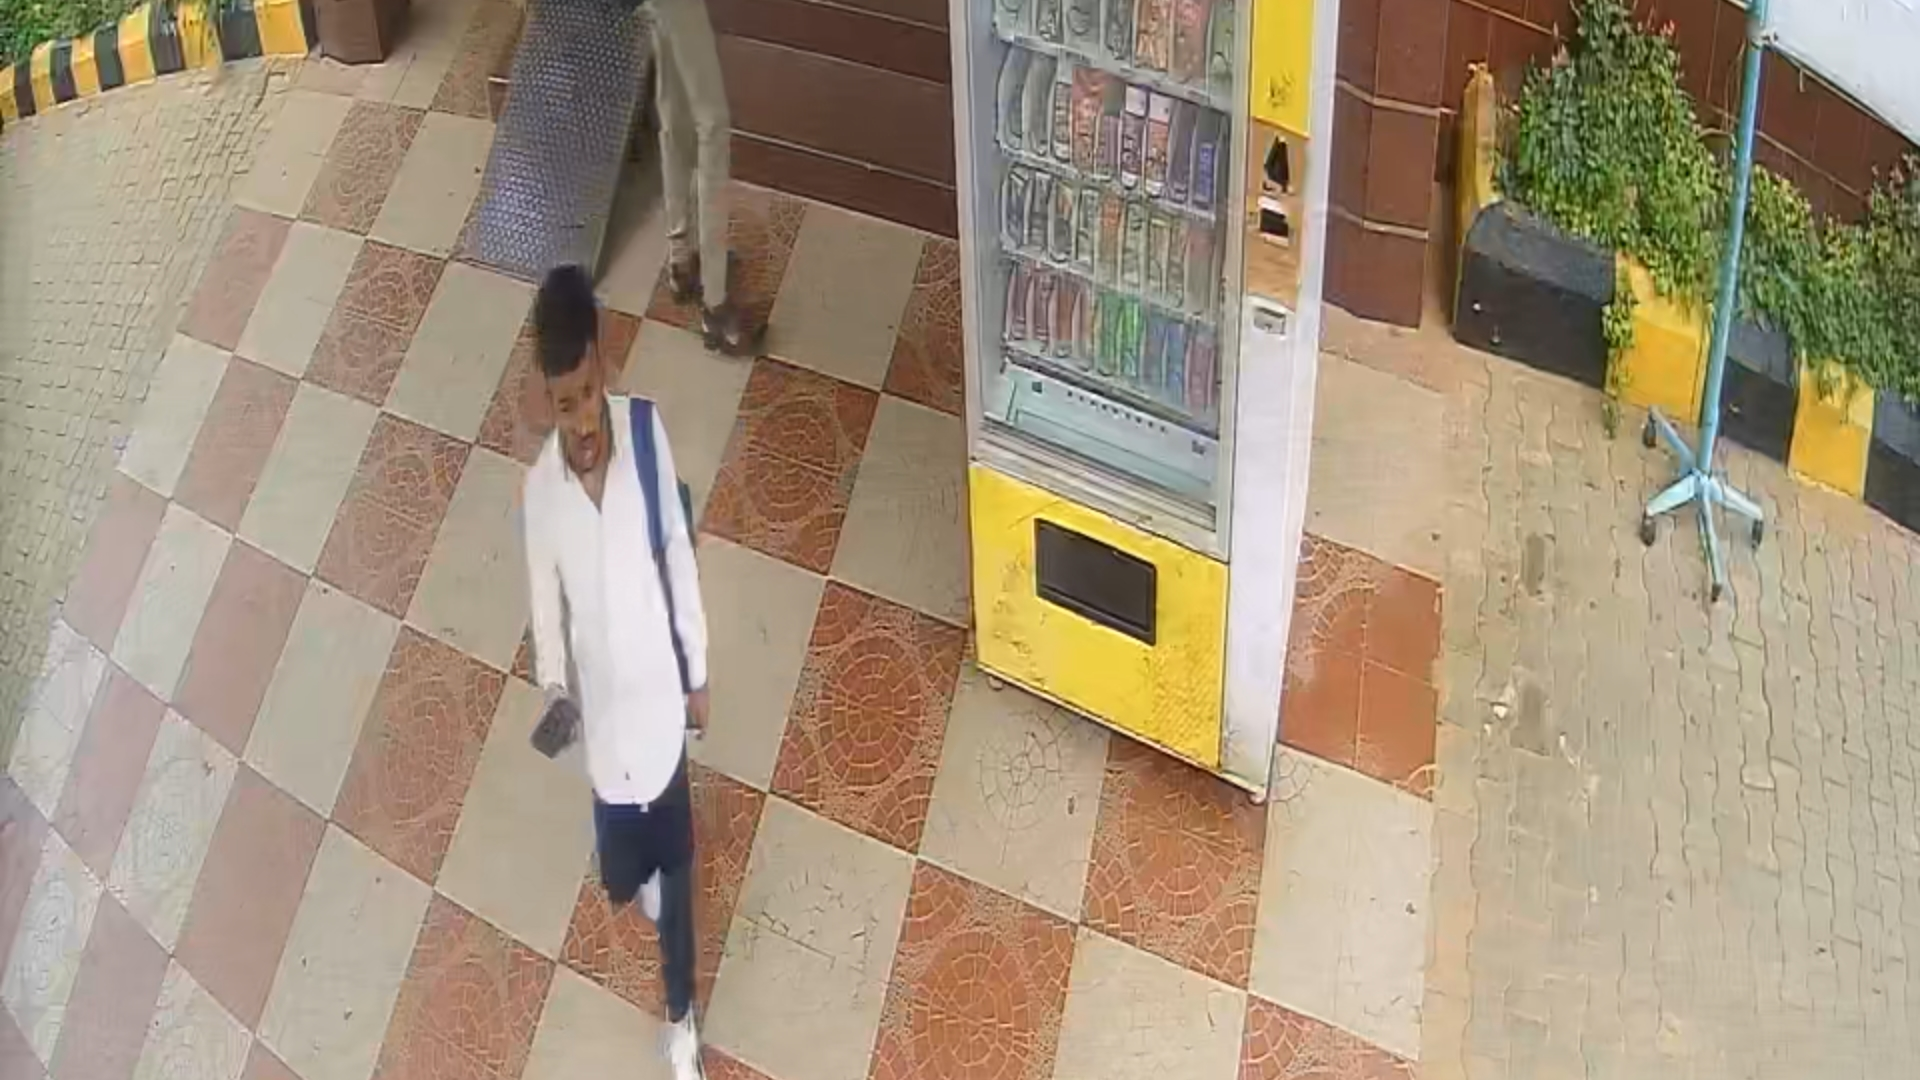intruder: (520, 272, 767, 1065)
